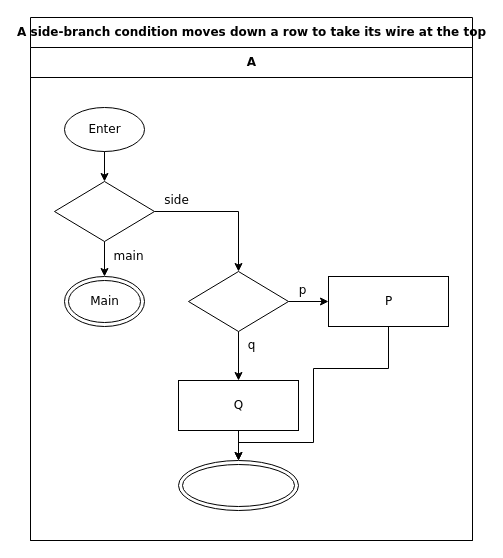
This 503x558 diagram has some shape labels left out. The shapes that lost their labels are listed below. From the top down, each one's box as (x1, y1, x2, y2) in pixels, then its label:
(54, 180, 154, 242): Outer?
(188, 270, 288, 332): Inner?
(178, 460, 298, 510): Inner join
